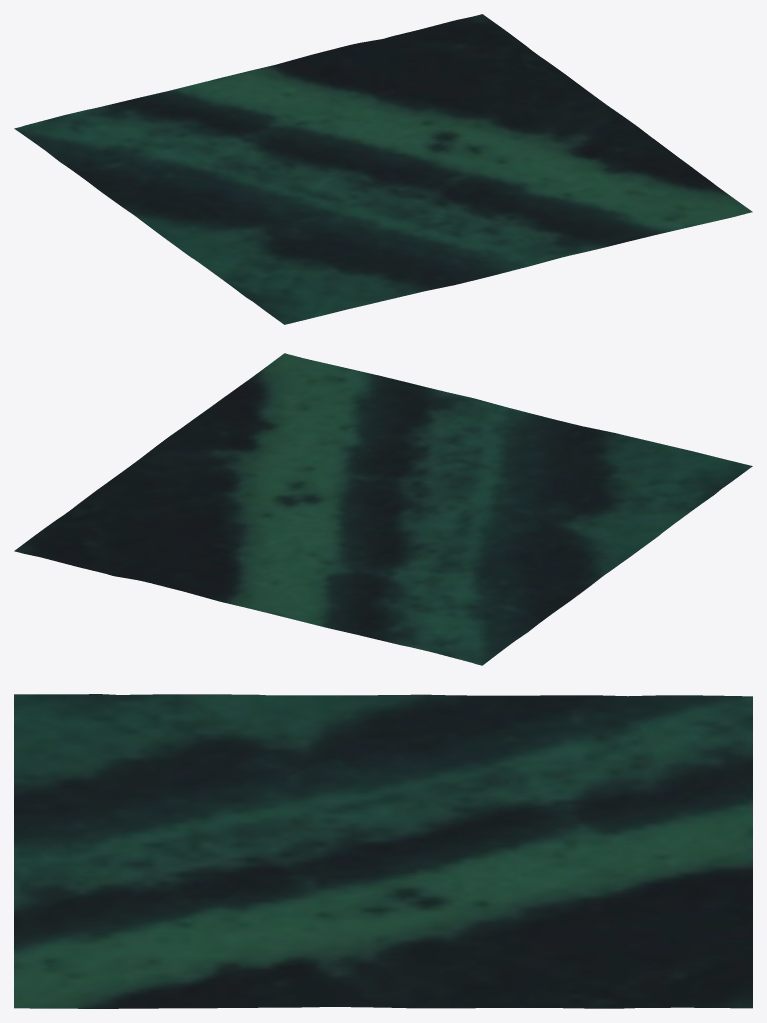
The picture shows the model from 3 angles, top to bottom: view 1: azimuth 30°, elevation 25°; view 2: azimuth 150°, elevation 25°; view 3: azimuth 270°, elevation 25°; orthographic projection. The views are drawn at different scales.
Bounding box in the file's own units: 52.22 × 0.4525 × 52.22.
2 materials, 2 textured.
